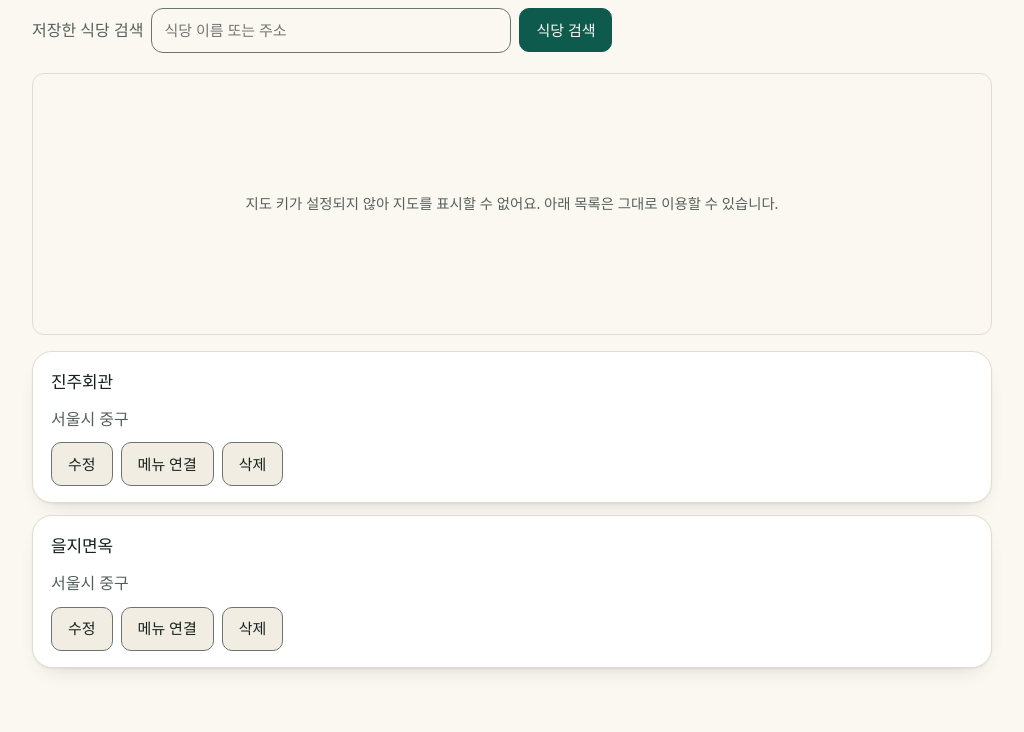
Test: RestaurantsPage 삭제 후 초점 › 식당이 남아 있으면 초점이 목록으로 간다
The image size is (1024, 732).
(page scrolled)
Step 1. Click the button with aria-label "진주회관 삭제" → [252, 464], box [222, 442, 283, 486]
(page scrolled)
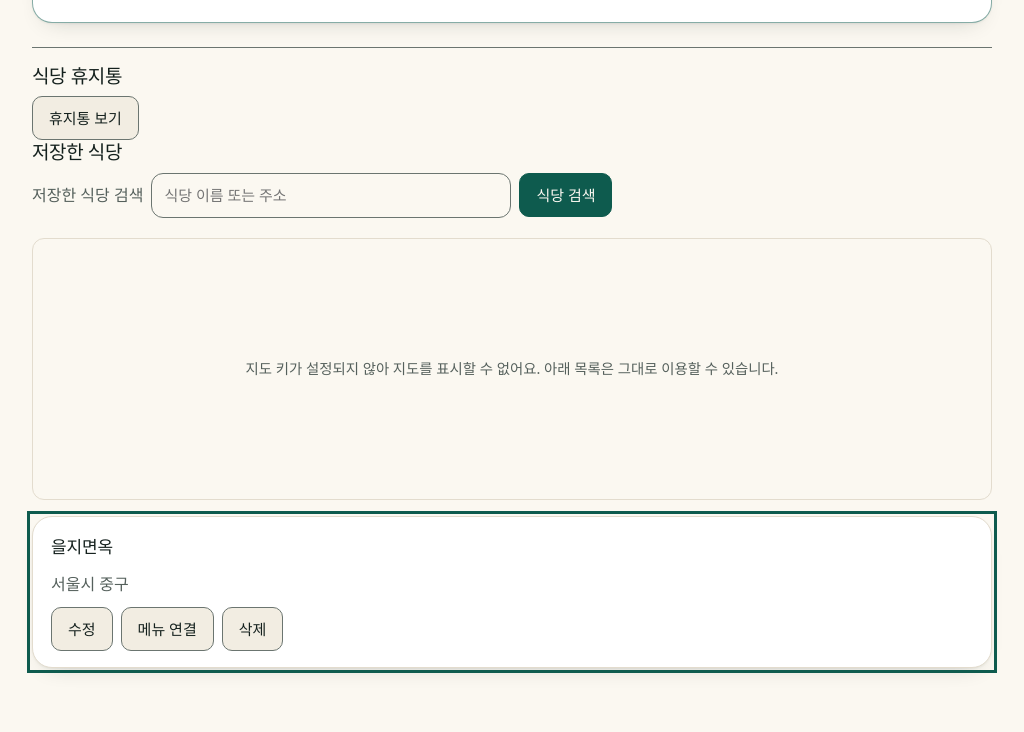
Expected: the text "진주회관" is gone
